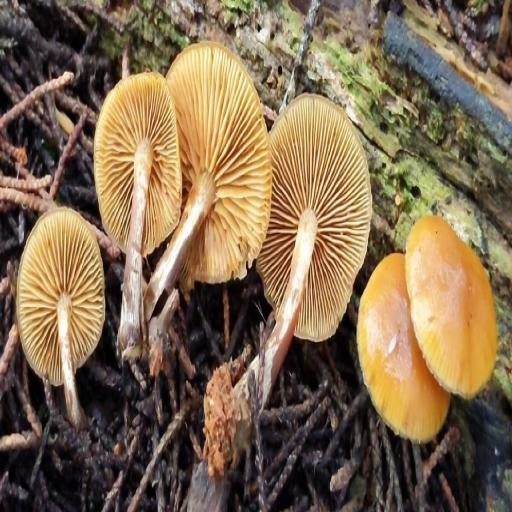mushroom: (90, 36, 372, 341), (356, 205, 500, 466), (13, 195, 108, 416)
